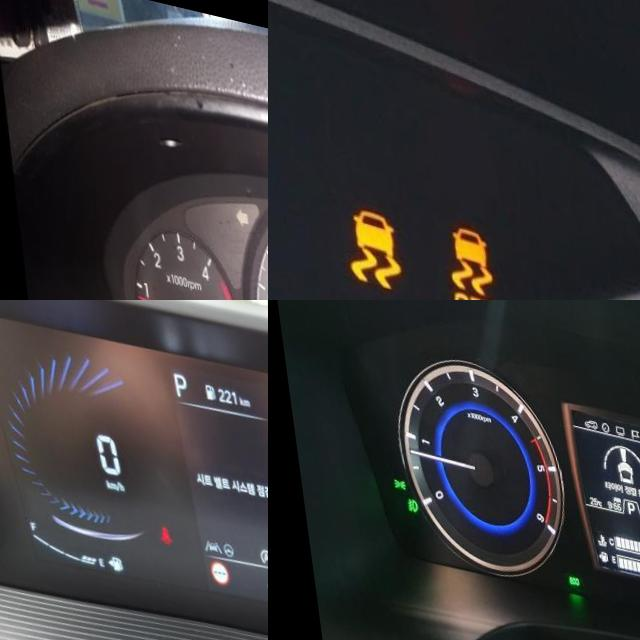FrontFogLight: (394, 492, 407, 507)
LaneCenteringOff: (194, 523, 213, 541)
SideLamp: (381, 473, 395, 485)
